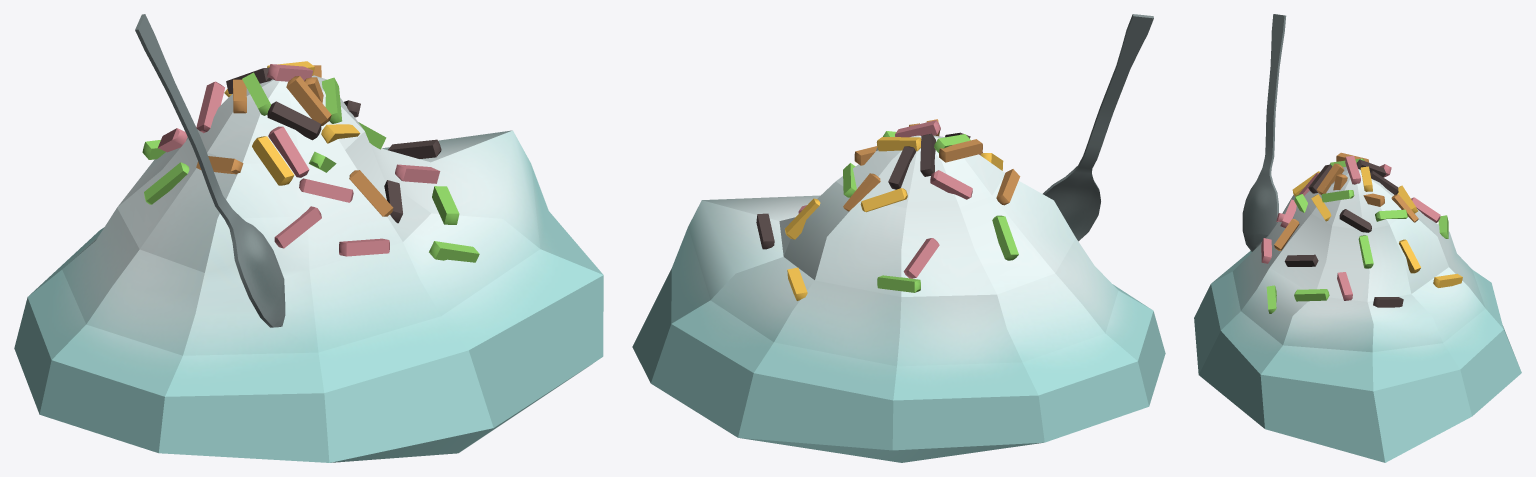
File: shabed01.fbx
3 views of the same model, side by side, from view 1: azimuth 30°, elevation 25°; view 2: azimuth 150°, elevation 25°; view 3: azimuth 270°, elevation 25° (orthographic). The views are drawn at different scales.
Parts seen in each view (by area): view 1: shabed01; view 2: shabed01; view 3: shabed01.
Part boxes in pixels (x1,y1,x2,y2): shabed01: (14, 14, 603, 462); shabed01: (632, 14, 1165, 462); shabed01: (1194, 14, 1521, 462).
Bounding box in the file's own units: 792 × 654 × 621.
